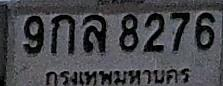2: (144, 12, 164, 52)
6: (195, 12, 215, 50)
7: (170, 12, 190, 51)
8: (119, 13, 138, 52)
9: (24, 14, 43, 54)
A01: (51, 14, 75, 54)
A36: (82, 14, 106, 53)
BKK: (40, 66, 193, 86)
